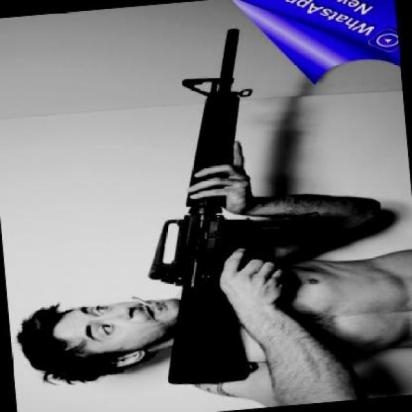Gun: (123, 19, 348, 390)
